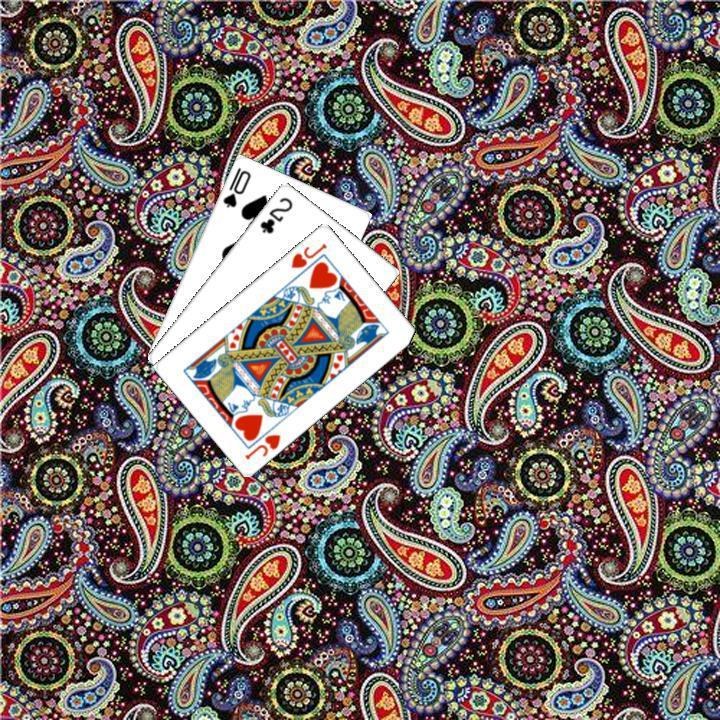10: (218, 162, 253, 209)
2: (255, 192, 295, 236)
J: (240, 429, 283, 461), (287, 238, 329, 270)
